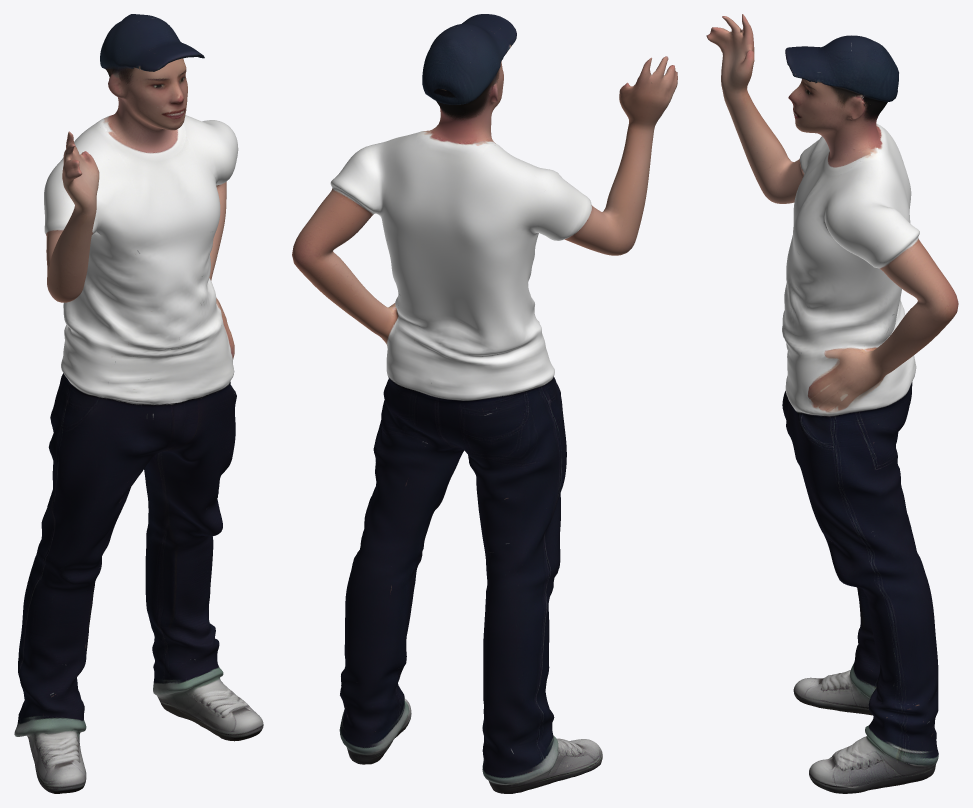
Rendered from chico_casual.glb.
3 renders of one model, left to right at view 1: azimuth 30°, elevation 25°; view 2: azimuth 150°, elevation 25°; view 3: azimuth 270°, elevation 25°, orthographic. The views are drawn at different scales.
Parts seen in each view (by area): view 1: Mesh_0; view 2: Mesh_0; view 3: Mesh_0.
Part boxes in pixels (x1,y1,x2,y2): Mesh_0: (14, 14, 263, 793); Mesh_0: (292, 14, 677, 793); Mesh_0: (706, 14, 958, 793).
Bounding box in the file's own units: 0.7433 × 1.91 × 0.6175.
1 material, 1 textured.
